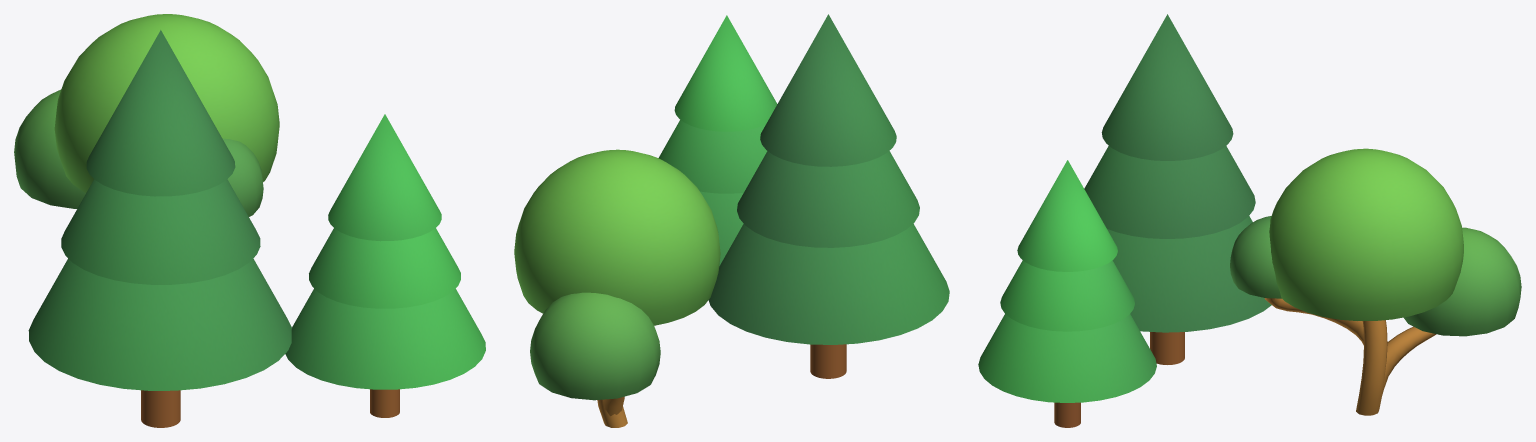
Rendered from low-poly_simple_trees.glb.
The picture shows the model from 3 angles, left to right: view 1: azimuth 30°, elevation 25°; view 2: azimuth 150°, elevation 25°; view 3: azimuth 270°, elevation 25°; orthographic projection. The views are drawn at different scales.
Parts seen in each view (by area): view 1: Tree-01.007, Tree-01.008, Tree-02.003; view 2: Tree-01.007, Tree-02.003, Tree-01.008; view 3: Tree-02.003, Tree-01.007, Tree-01.008.
Part boxes in pixels (x1,y1,x2,y2): Tree-01.007: [28, 30, 291, 427]; Tree-01.008: [285, 114, 485, 417]; Tree-02.003: [14, 14, 279, 216]; Tree-01.007: [708, 14, 949, 378]; Tree-02.003: [514, 149, 720, 427]; Tree-01.008: [658, 15, 777, 265]; Tree-02.003: [1230, 148, 1521, 415]; Tree-01.007: [1084, 14, 1271, 364]; Tree-01.008: [978, 160, 1156, 427].
Size of the model in its own units: 7.01 by 7.1 by 10.1.
1 material, 1 textured.
